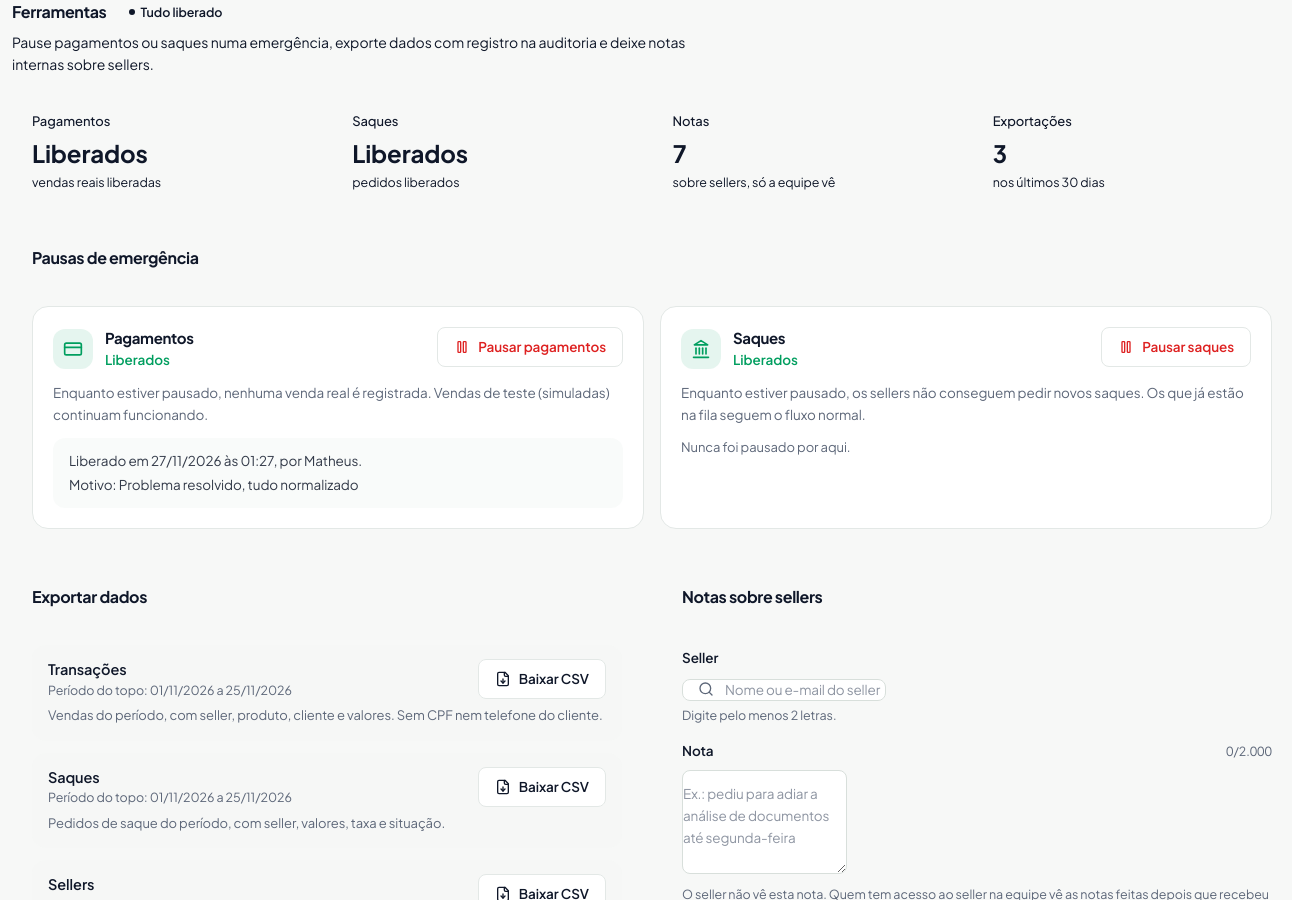
notas sobre sellers › nota repetida avisa que já estava salva, e erro do servidor fica na tela
The width and height of the screenshot is (1292, 900).
Expected: the element "Pagamentos" is shown, [32,306,644,529]
Type "mar" into the field with placeholder "Nome ou e-mail do seller" at (784, 690), box [682,679,886,701]
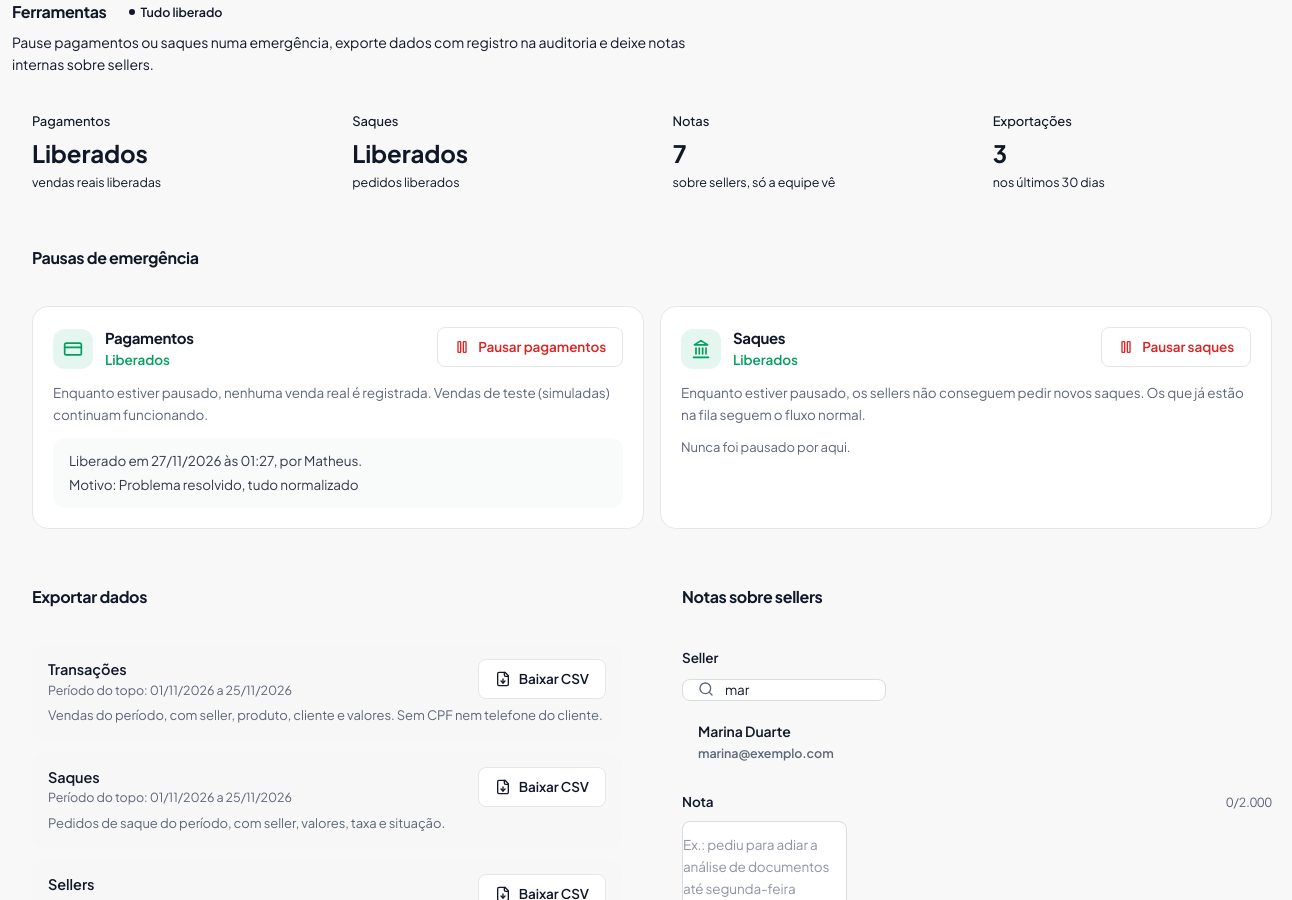
Click the button "Marina Duarte marina@exemplo.com" at (744, 731), box [682,709,1268,775]
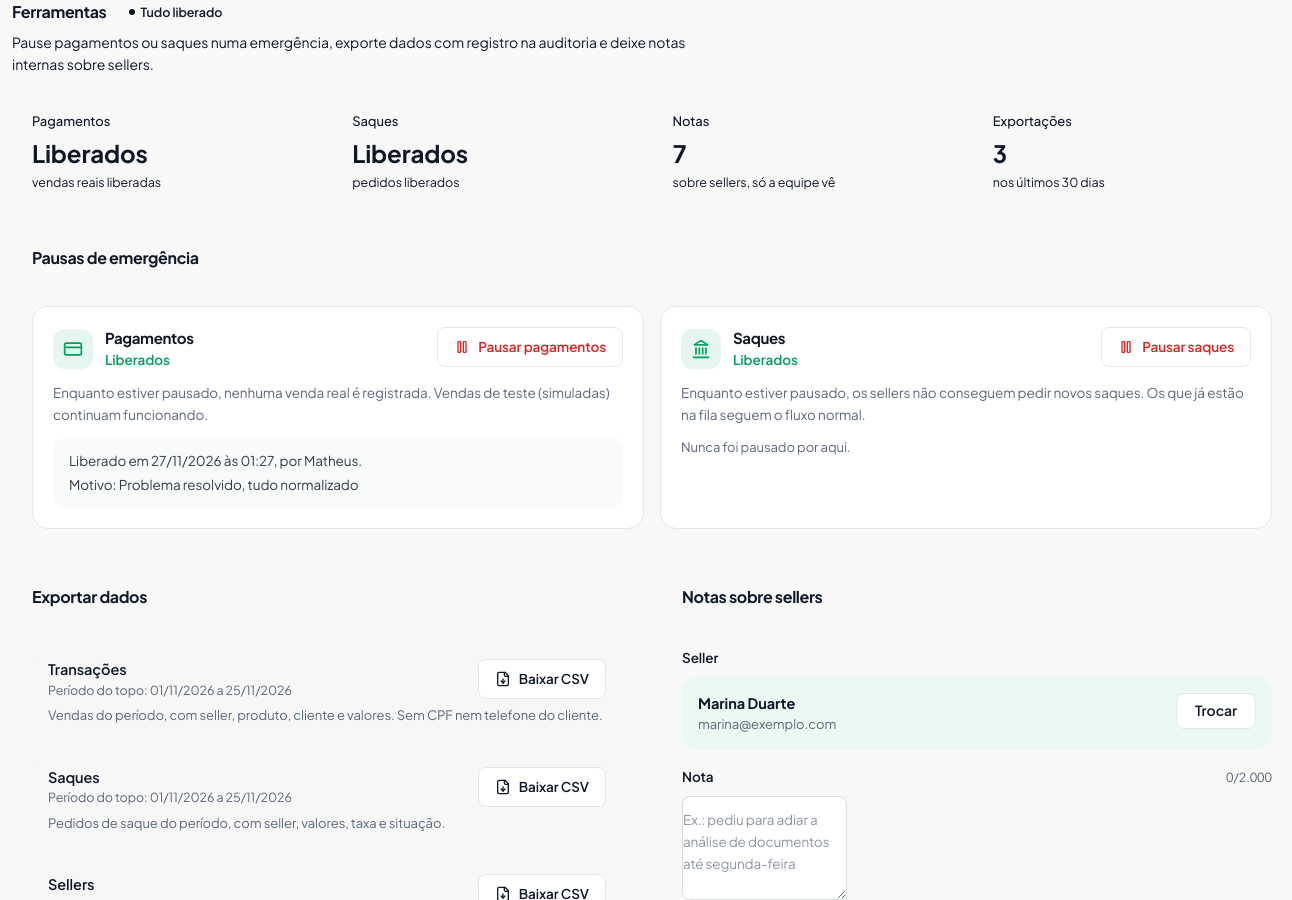
Replace the text in the text box labelled "Nota" with "Pediu para adiar a análise de documentos." at (764, 848), box [682,796,847,899]
(page scrolled)
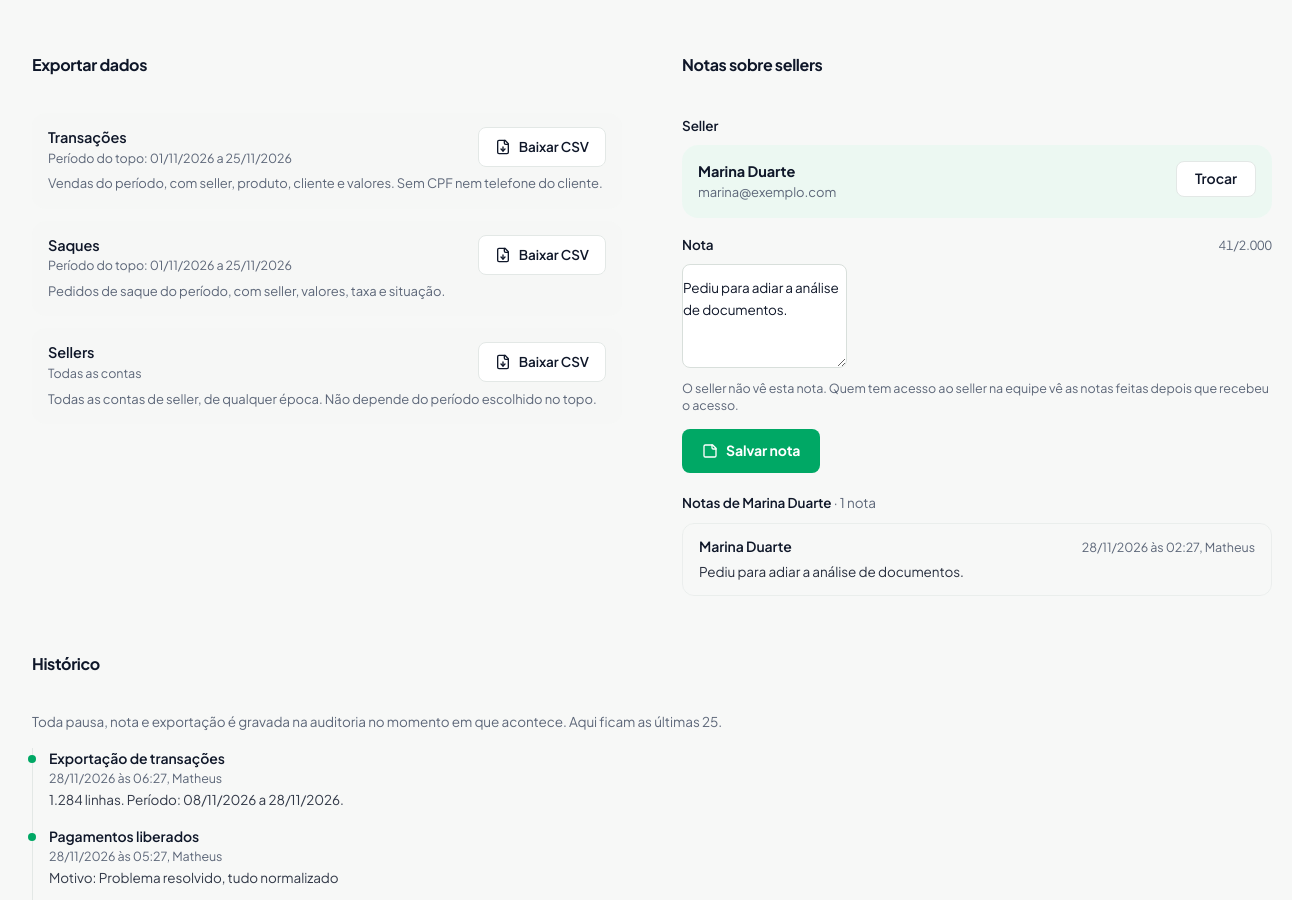
Click the button "Salvar nota" at (751, 450), box [682,428,820,472]
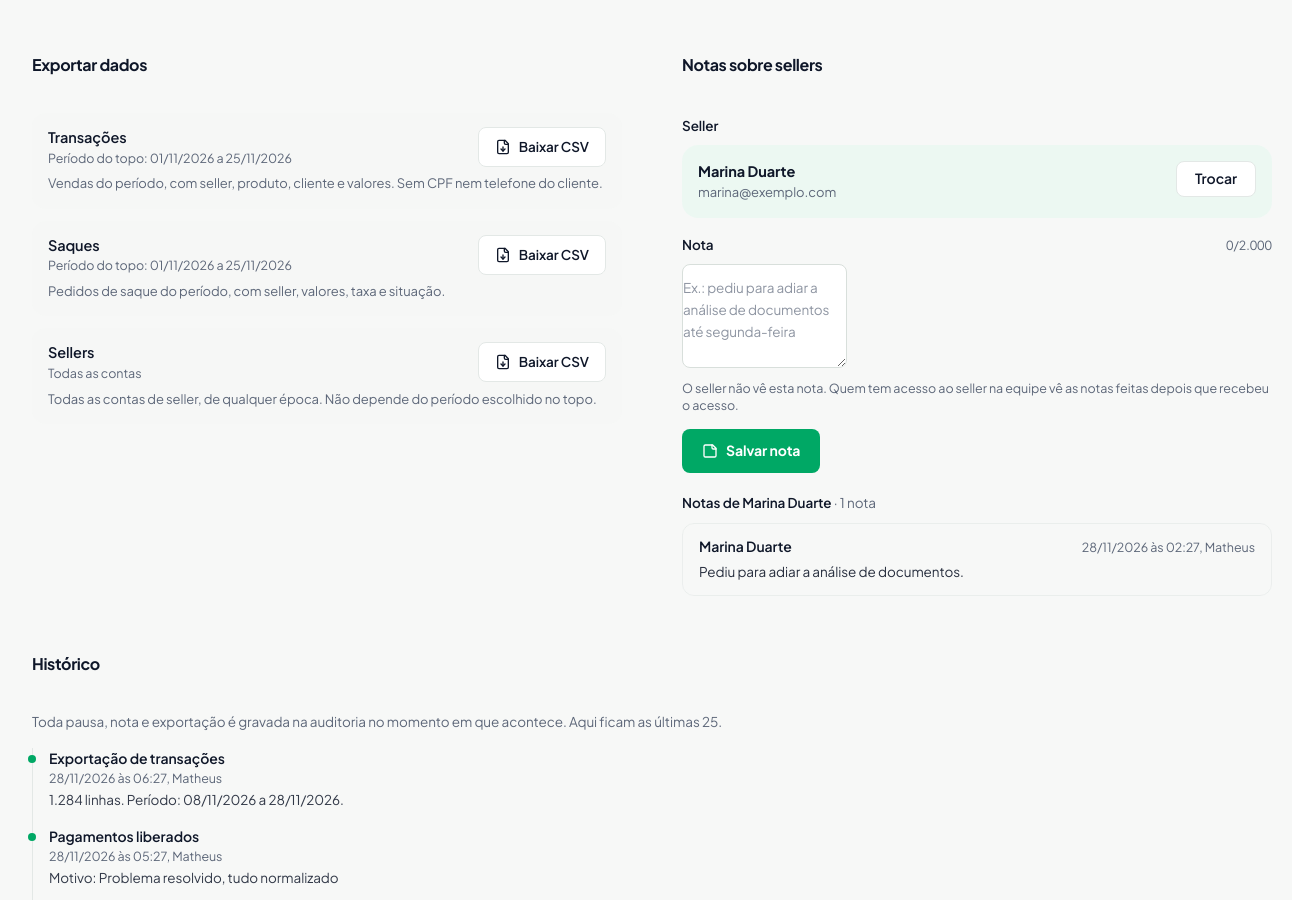
Replace the text in the text box labelled "Nota" with "Outra nota qualquer" at (764, 316), box [682,264,847,368]
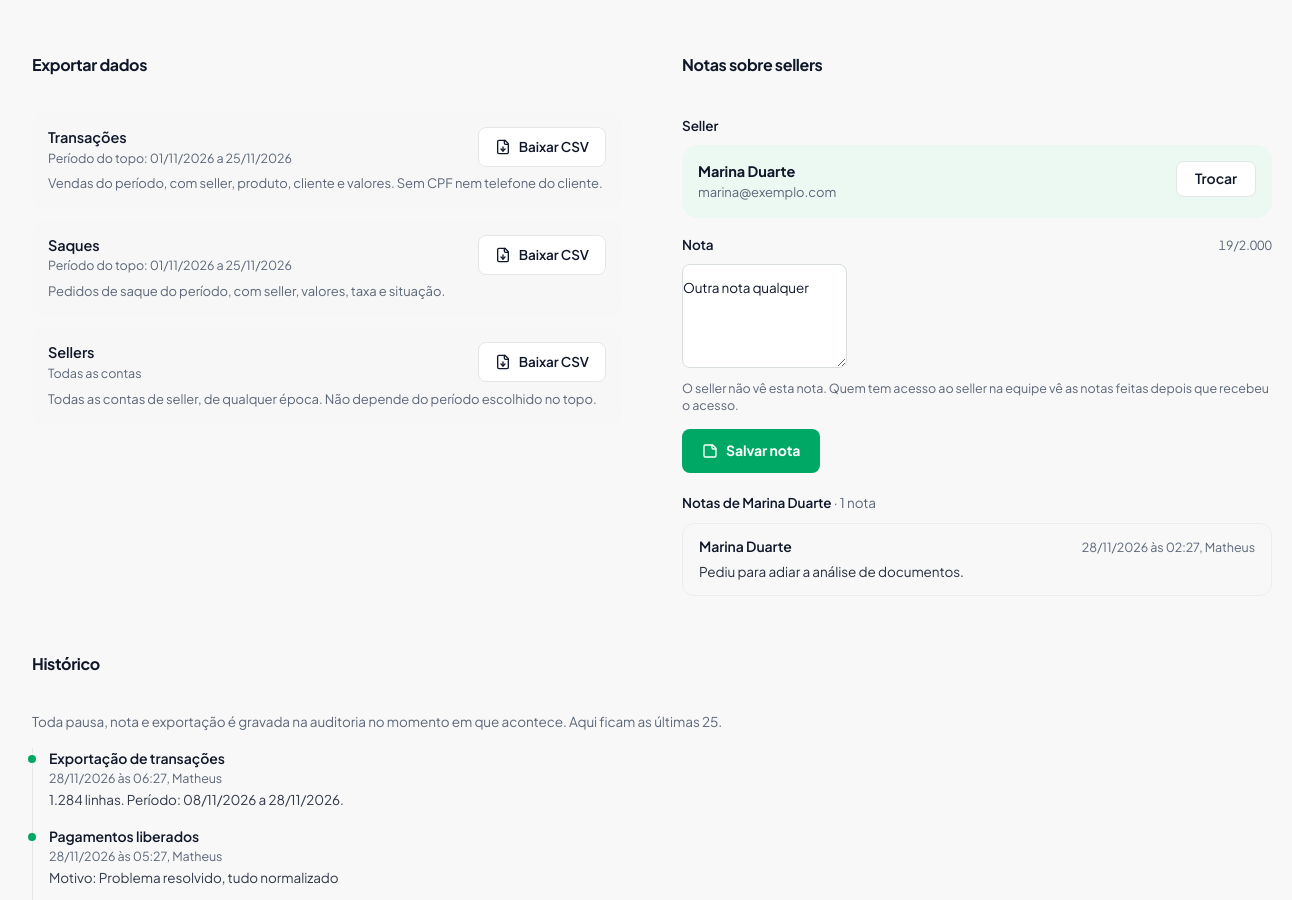
Click the button "Salvar nota" at (751, 450), box [682,428,820,472]
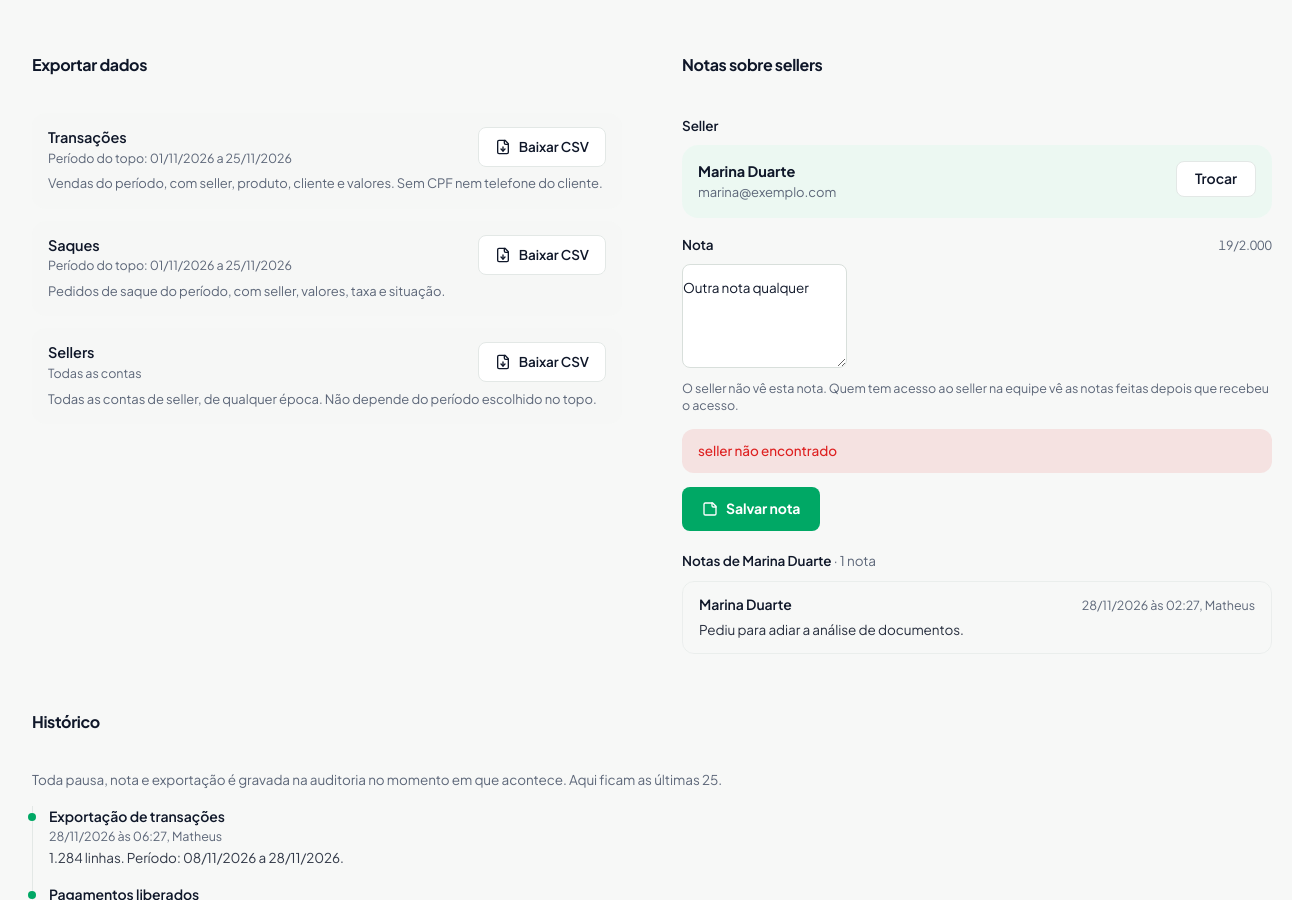
Expected: the message reads "seller não encontrado", [698,442,837,458]
